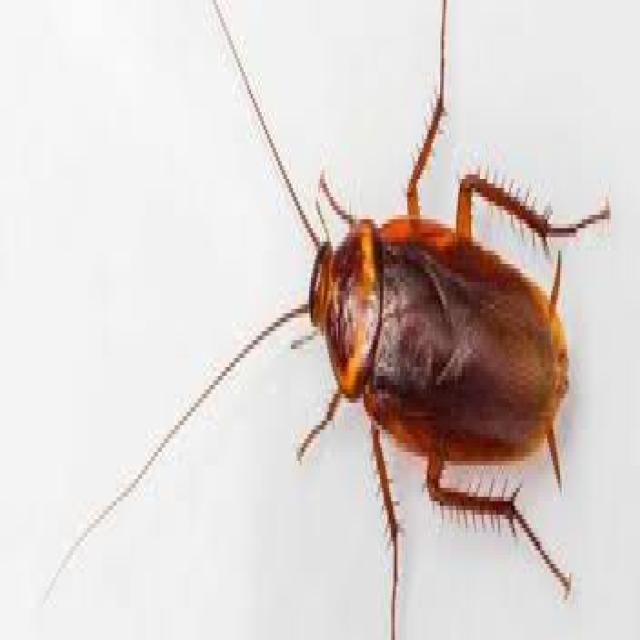Cockroach: (211, 54, 638, 622)
